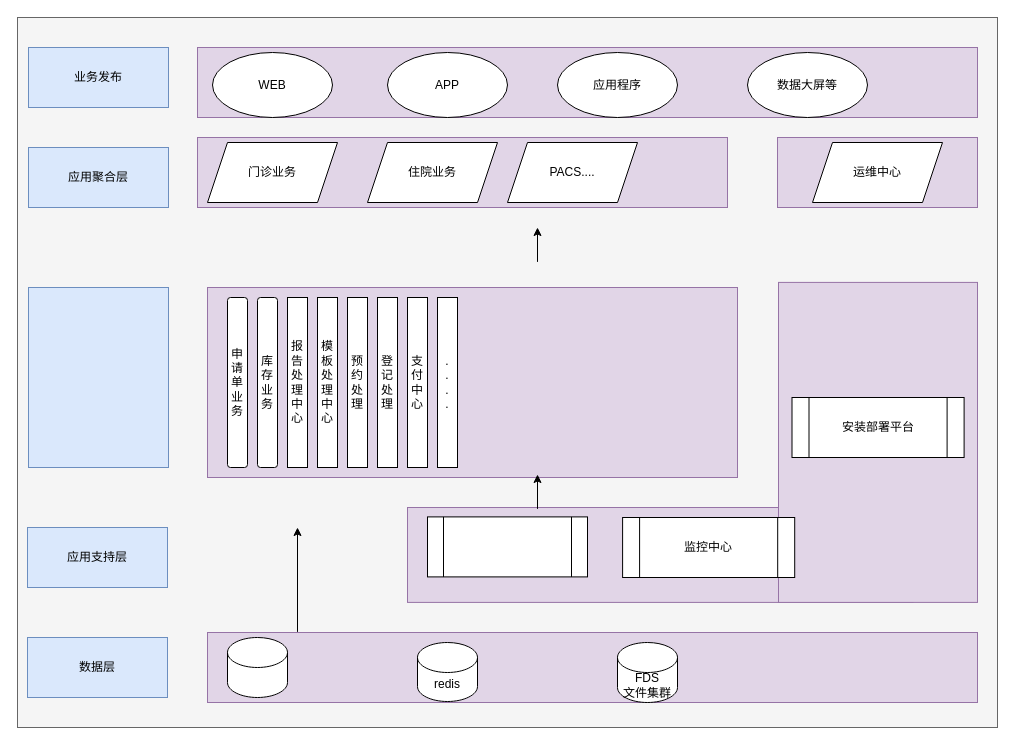
Some shapes in this 1015 by 745 pixel diagram are drawn without their labels. Here are the shapes that lost their labels. From the top down, the centre of each, then its label:
At point 98,377: "业务支持层".
At point 507,546: "数据中台".
At point 257,667: "mysql".
